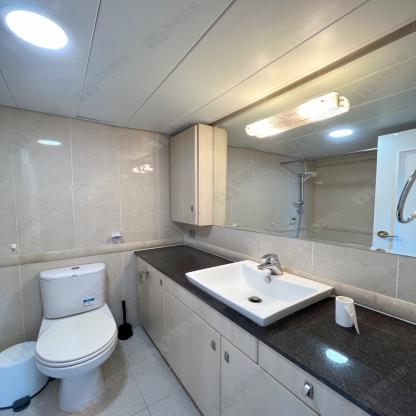Toilet: (34, 261, 118, 413)
Toilet Sink: (188, 260, 333, 326)
